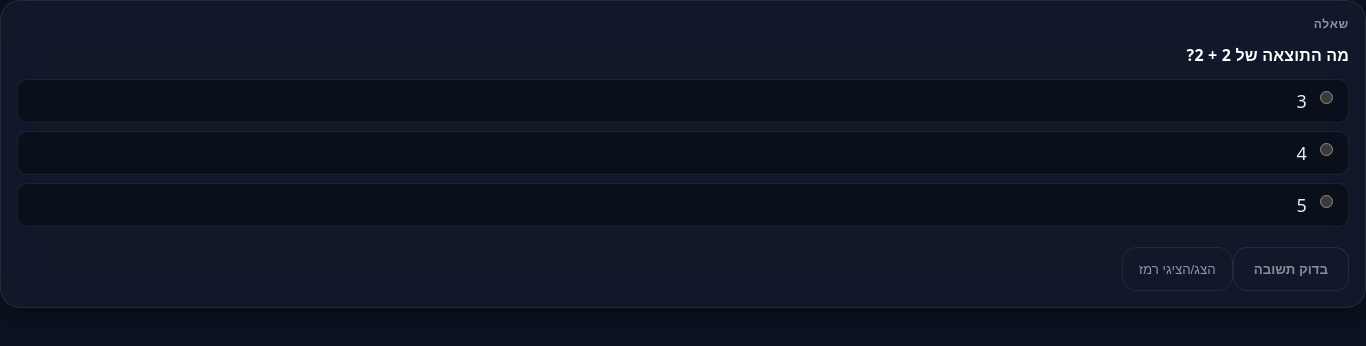
Test: QuestionAnswerPanel › hides the inline hint and offers an on-request hint button at Medium difficulty (and when omitted)
Click the button with test id "question-hint-button" at x=1177, y=269, box [1122,247,1233,291]
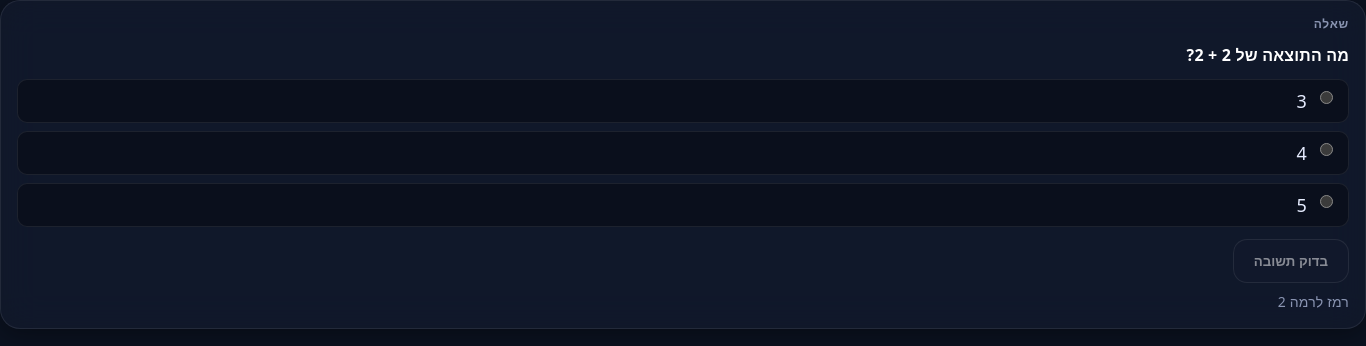
expect the text with test id "question-hint-text" reads "רמז לרמה 2": met, box [1278,292,1349,311]
